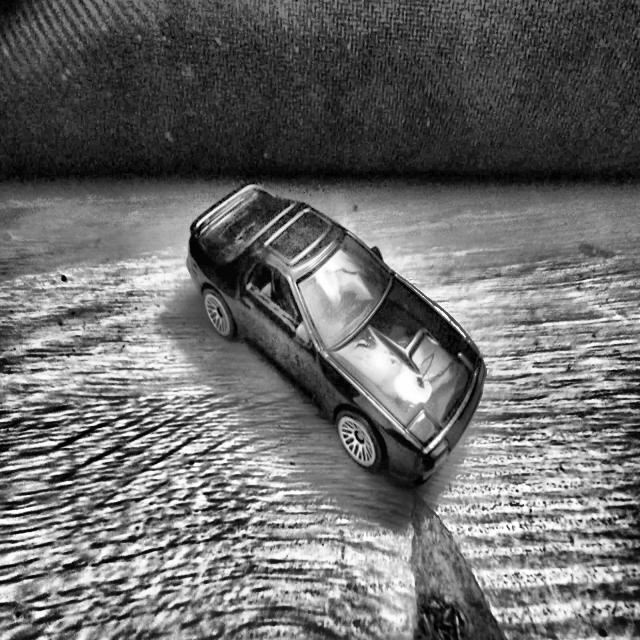car: (186, 182, 487, 487)
